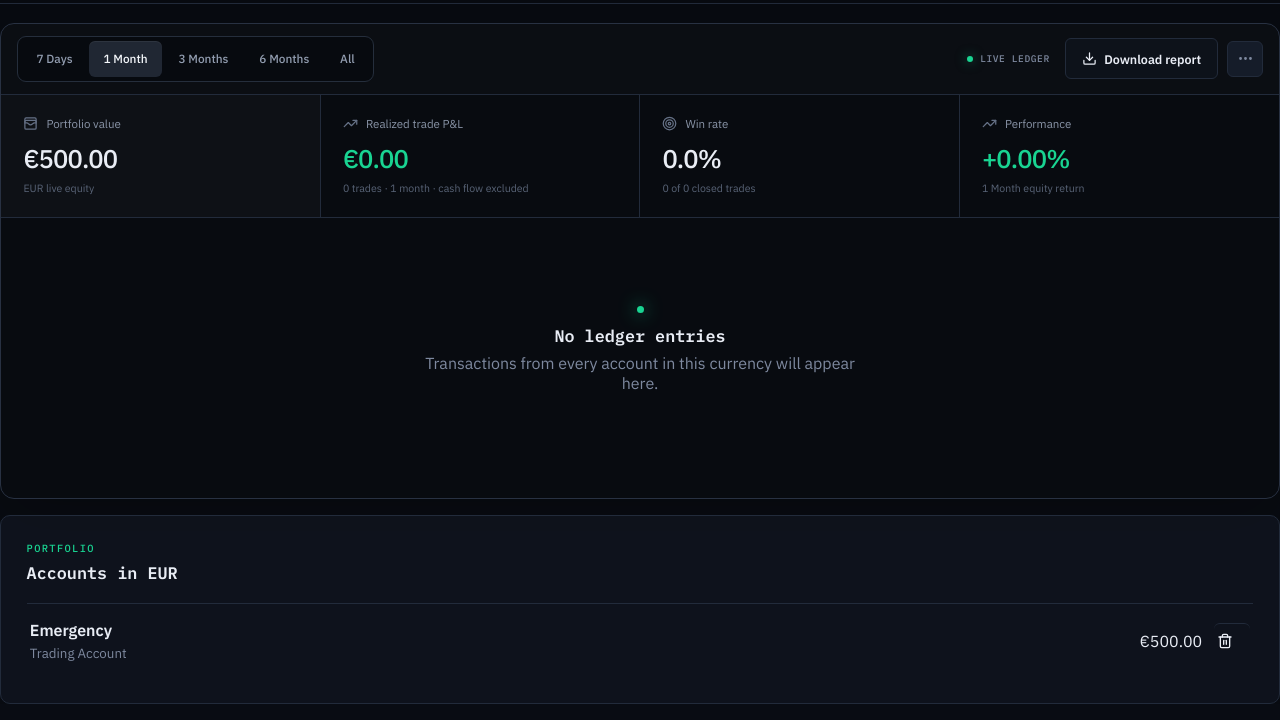
it: application pages › confirms account deletion from the portfolio list
(page scrolled)
Click the button named "Delete Emergency".
click(1232, 641)  # box [1214,623,1250,659]
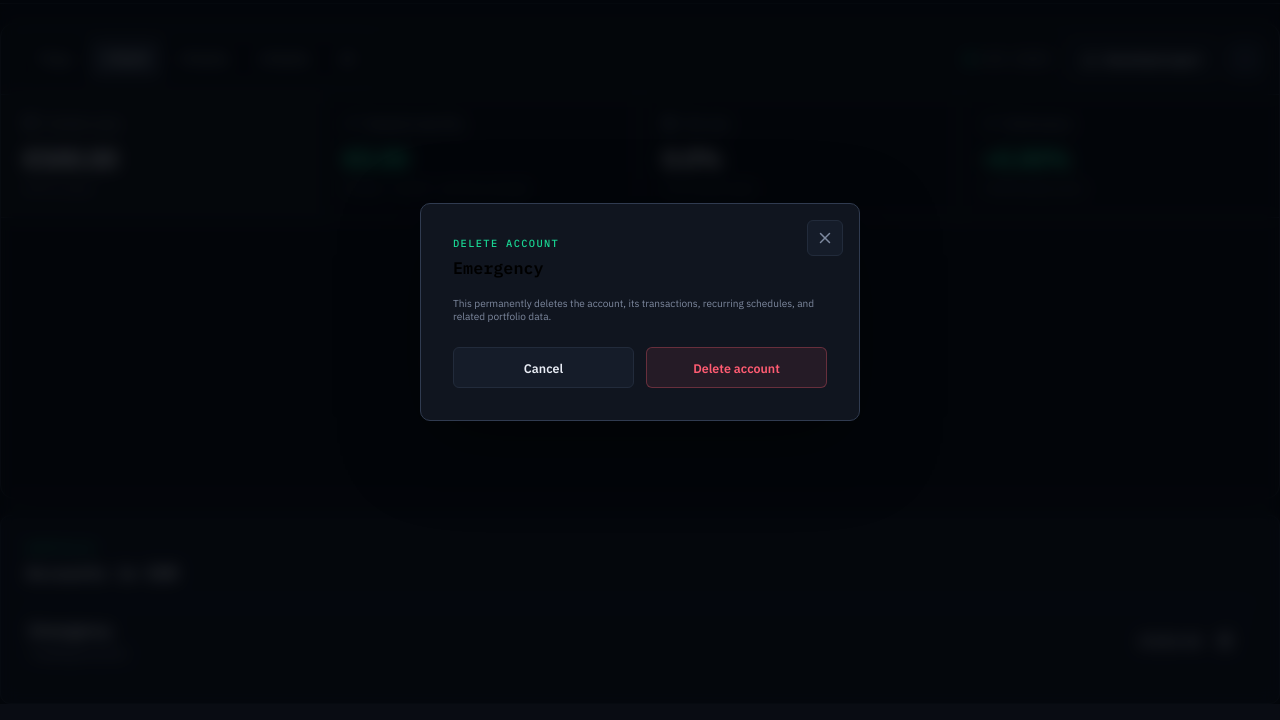
Expected: the dialog "Emergency" is shown, [420,203,860,421]
Click the button "Cancel".
click(544, 368)  # box [453,347,634,388]
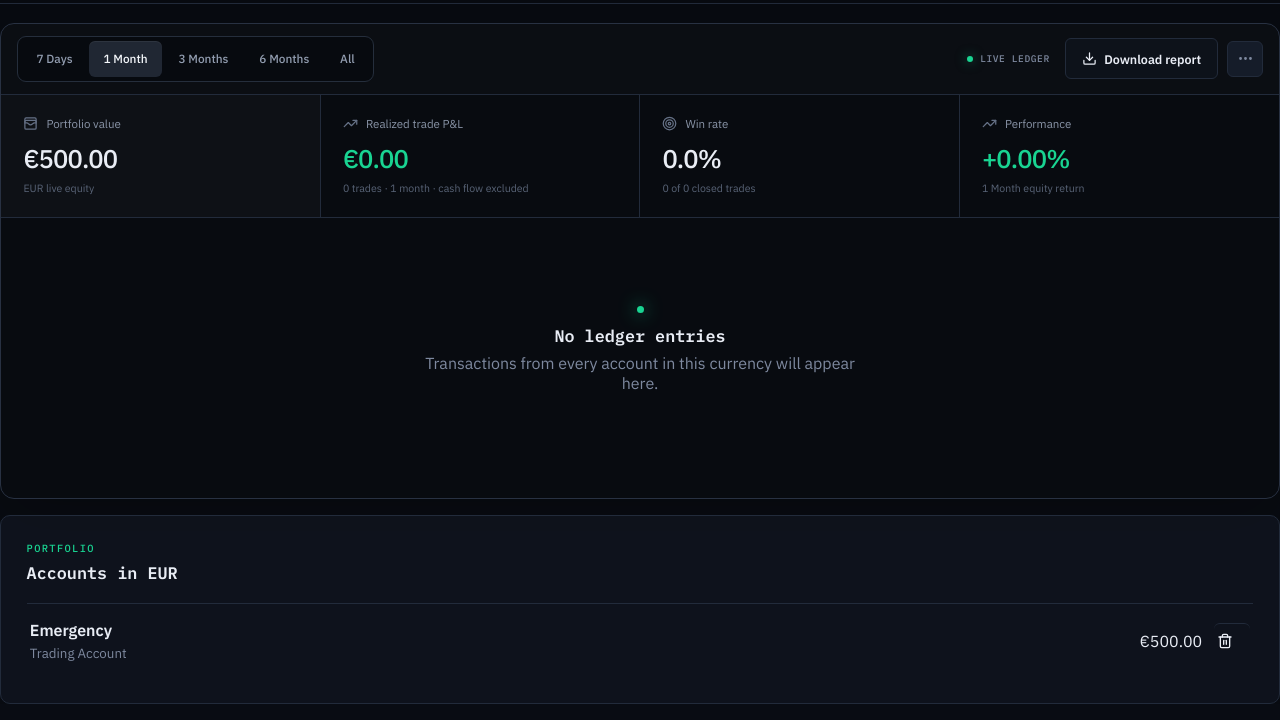
Expected: the dialog is gone
Click the button named "Delete Emergency".
click(1232, 641)  # box [1214,623,1250,659]
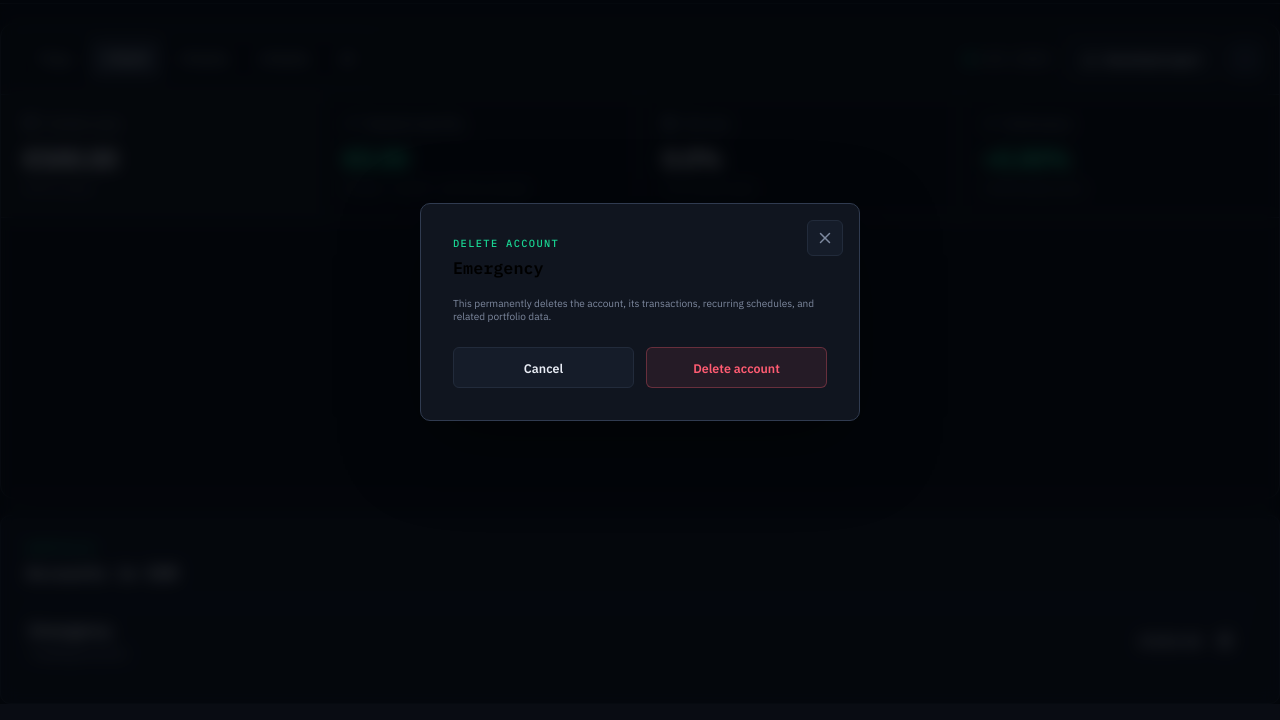
Click the button named "Close delete account dialog".
click(825, 238)  # box [807,220,843,256]
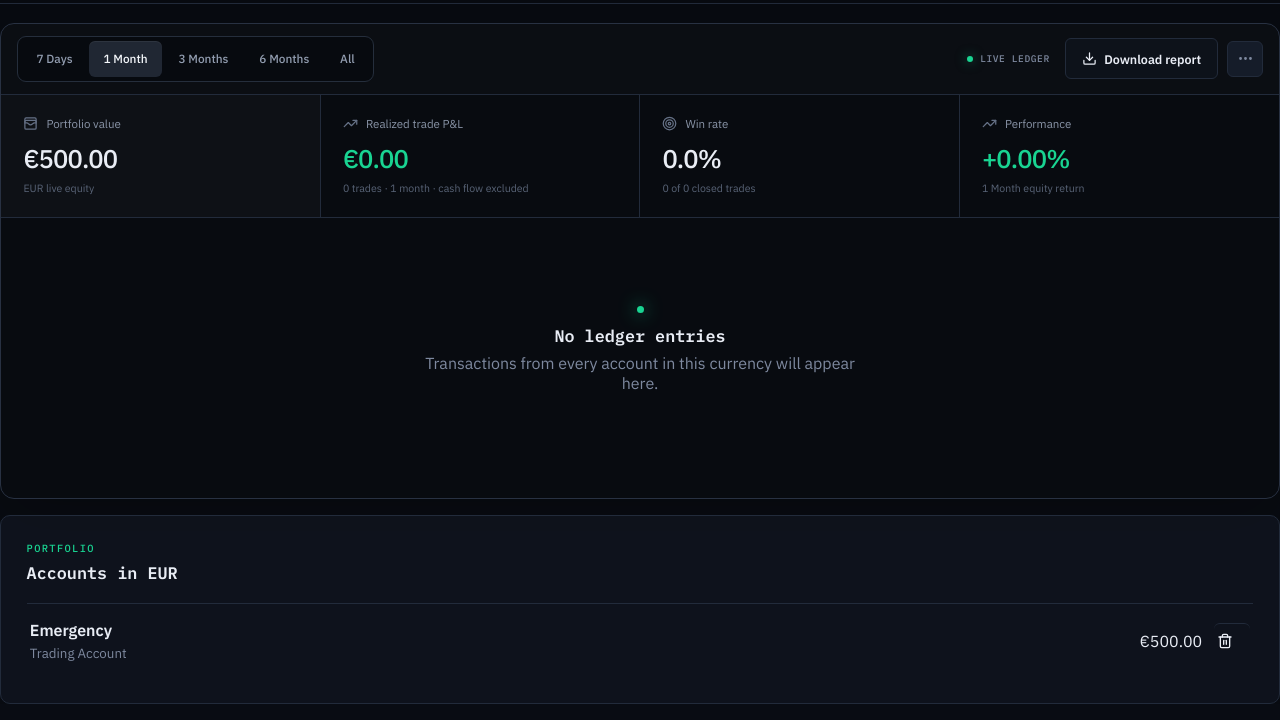
Expected: the dialog is gone
Click the button named "Delete Emergency".
click(1232, 641)  # box [1214,623,1250,659]
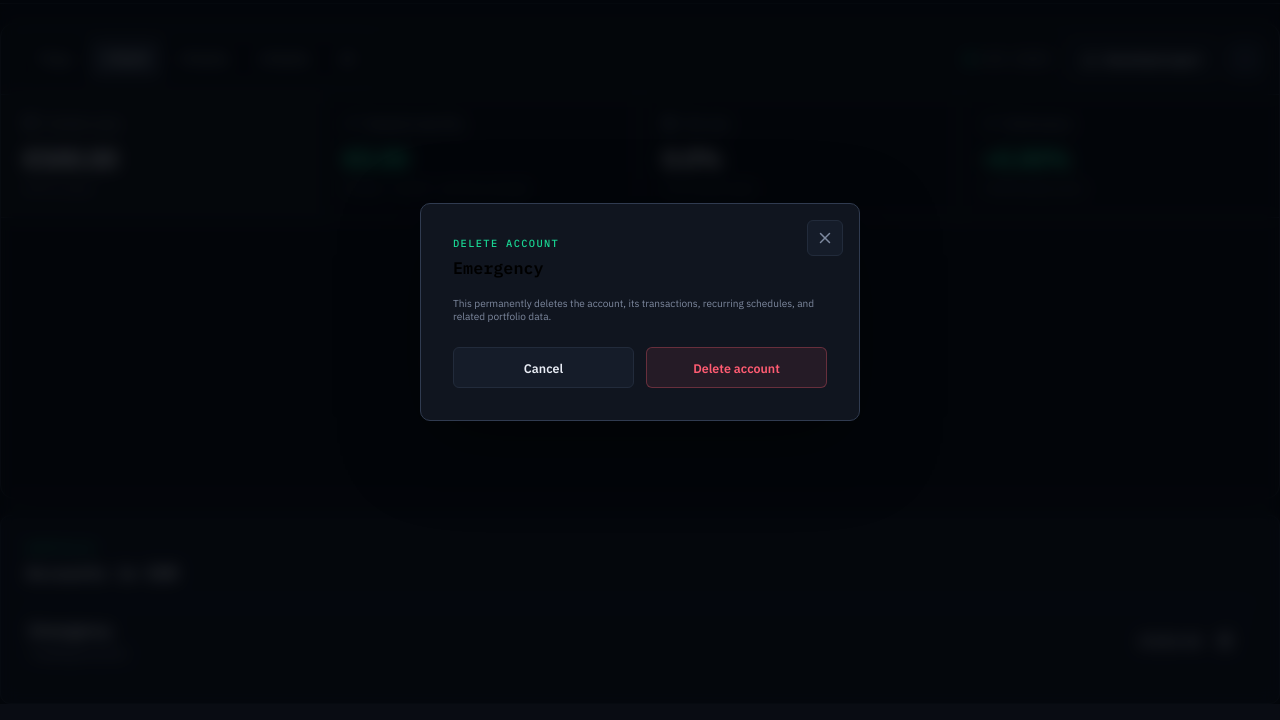
Click the button "Delete account".
click(736, 368)  # box [646,347,827,388]
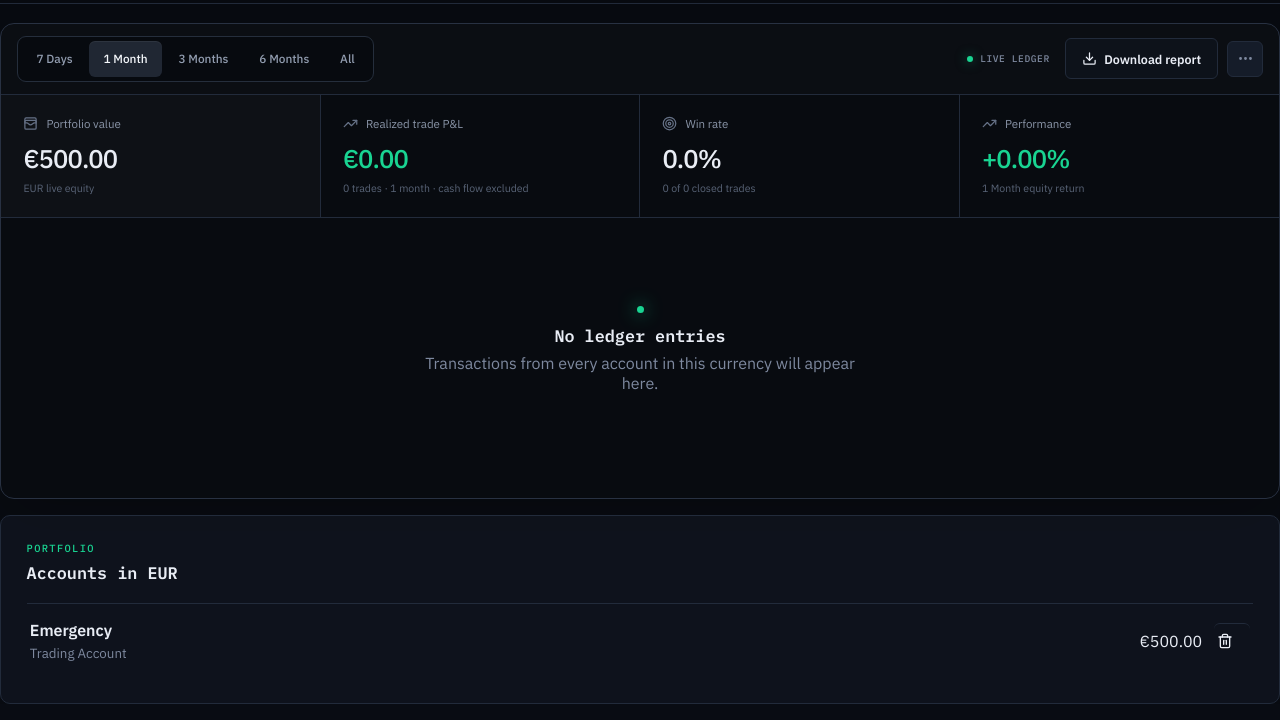
Expected: the dialog is gone
